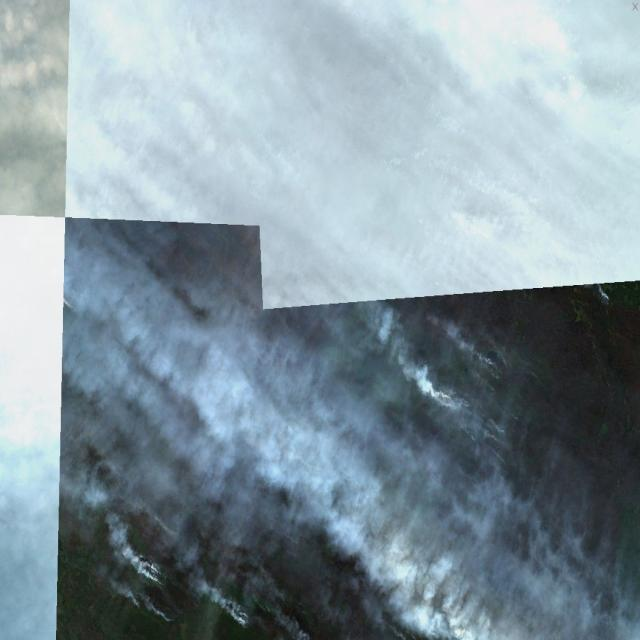fire: (443, 397, 514, 459), (475, 338, 517, 397), (126, 595, 180, 630), (148, 554, 168, 590)
